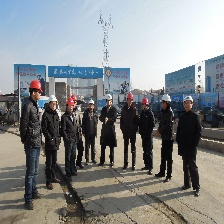helmet: (28, 79, 44, 95), (158, 93, 172, 105), (181, 94, 195, 104), (66, 94, 76, 108), (46, 94, 58, 105), (126, 92, 135, 101), (105, 94, 114, 101), (87, 99, 96, 106), (141, 98, 149, 105)
no-vest: (20, 100, 43, 152), (177, 110, 202, 155), (43, 109, 62, 153), (158, 108, 176, 142), (120, 104, 139, 135), (102, 106, 117, 142), (62, 112, 77, 145), (82, 111, 98, 141), (139, 110, 156, 138)
person: (19, 80, 43, 211), (176, 95, 202, 199), (43, 94, 63, 193), (155, 94, 176, 183), (60, 98, 81, 183), (119, 93, 139, 172), (99, 93, 119, 168), (139, 96, 156, 178), (82, 98, 99, 167)
